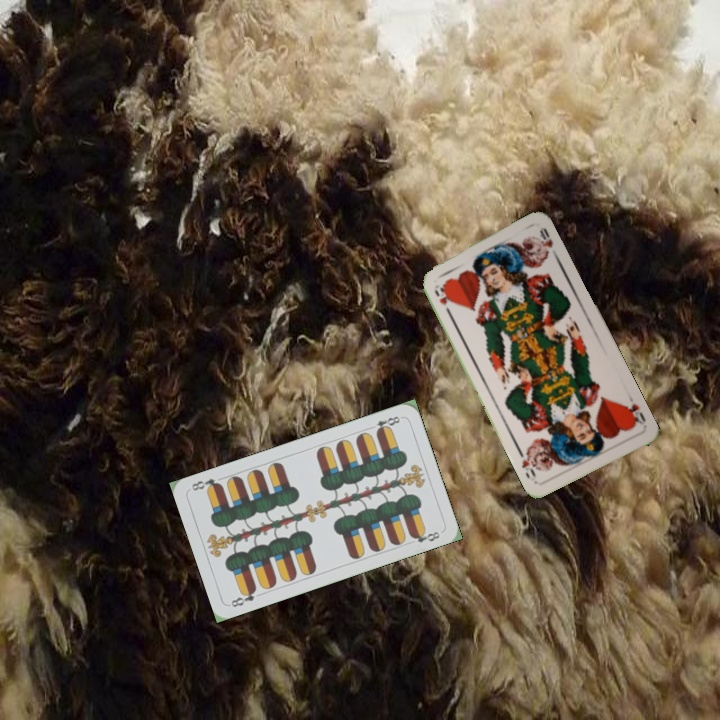E8: (365, 412, 403, 436), (227, 584, 259, 610)
HO: (620, 391, 648, 429), (430, 280, 454, 317)
